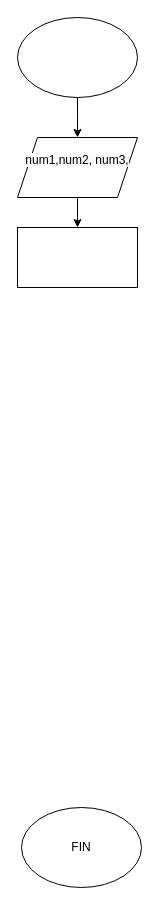
The diagram is 159 pixels wide and 905 high, and some of its shapes have lost their labels. Each missing label, with the box of its shape:
INICIO: (16, 16, 138, 98)
mayor= >3num menor=<3num raiz=R2num: (16, 226, 138, 288)
